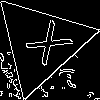X: (16, 18, 74, 75)
